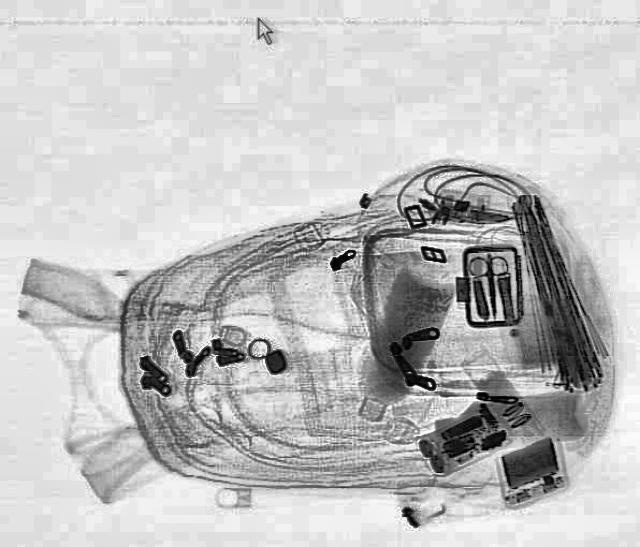Scissors: (466, 254, 514, 320)
